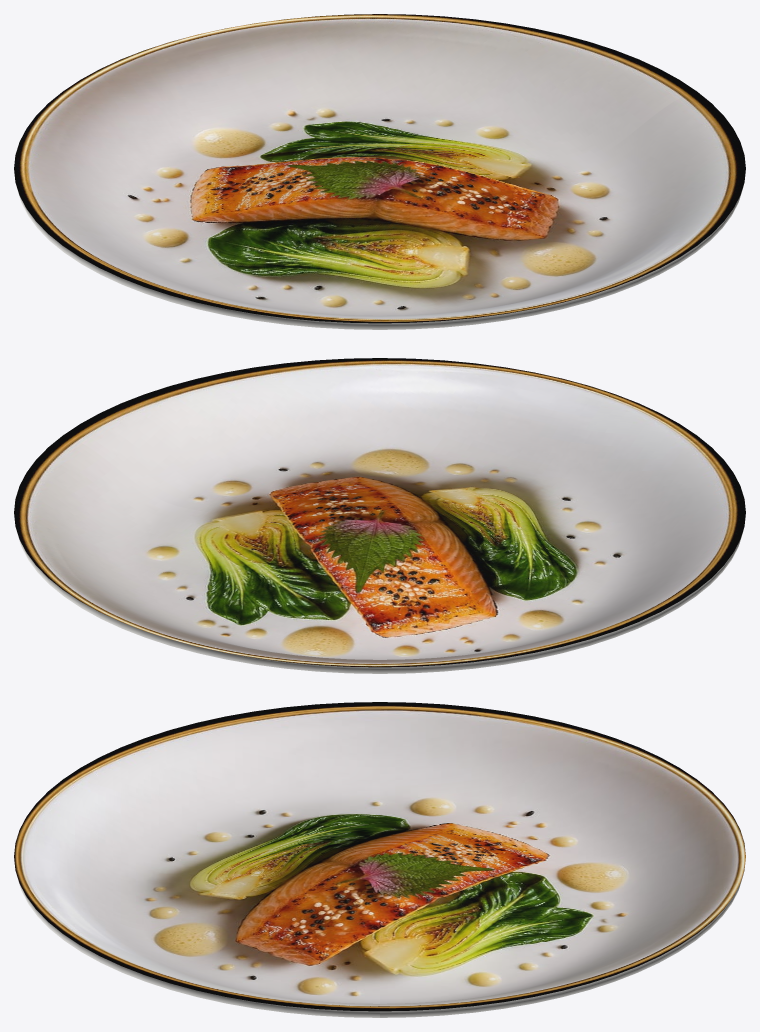
Rendered from salmao.glb.
3 views of the same model, one above another, from view 1: azimuth 30°, elevation 25°; view 2: azimuth 150°, elevation 25°; view 3: azimuth 270°, elevation 25° (orthographic).
Parts seen in each view (by area): view 1: dish; view 2: dish; view 3: dish.
Part boxes in pixels (x1,y1,x2,y2): dish: (14,14,745,329); dish: (14,358,745,673); dish: (14,702,745,1017).
Bounding box in the file's own units: 0.27 × 0.025 × 0.27.
Materials: 2 (1 with a texture image).
